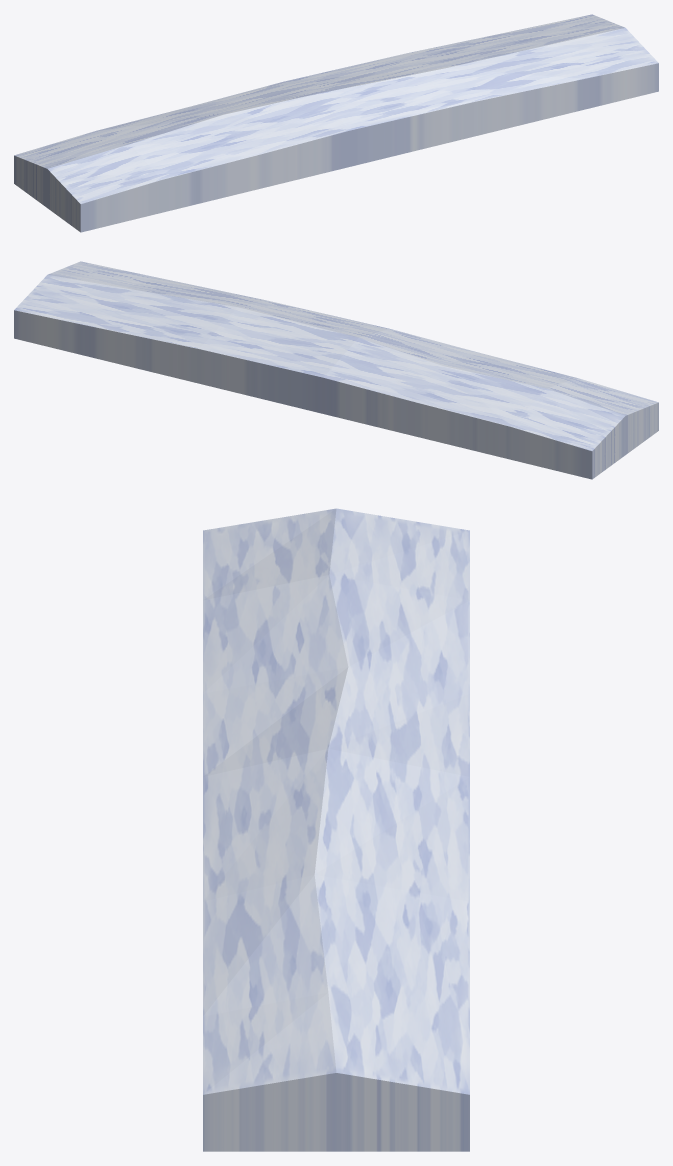
File: snow_ledge.glb
3 views of the same model, one above another, from view 1: azimuth 30°, elevation 25°; view 2: azimuth 150°, elevation 25°; view 3: azimuth 270°, elevation 25° (orthographic). The views are drawn at different scales.
Parts seen in each view (by area): view 1: winter_snow_ledge; view 2: winter_snow_ledge; view 3: winter_snow_ledge.
Part boxes in pixels (<box>): winter_snow_ledge: <box>14,14,658,232</box>; winter_snow_ledge: <box>14,261,658,479</box>; winter_snow_ledge: <box>203,508,469,1151</box>.
Size of the model in its own units: 1.2 by 0.1 by 0.24.
Materials: 1 (1 with a texture image).
